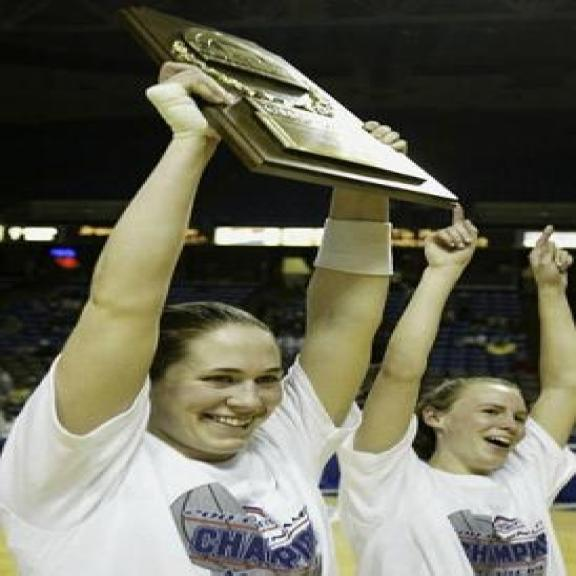face: (144, 322, 292, 456), (413, 380, 531, 473)
